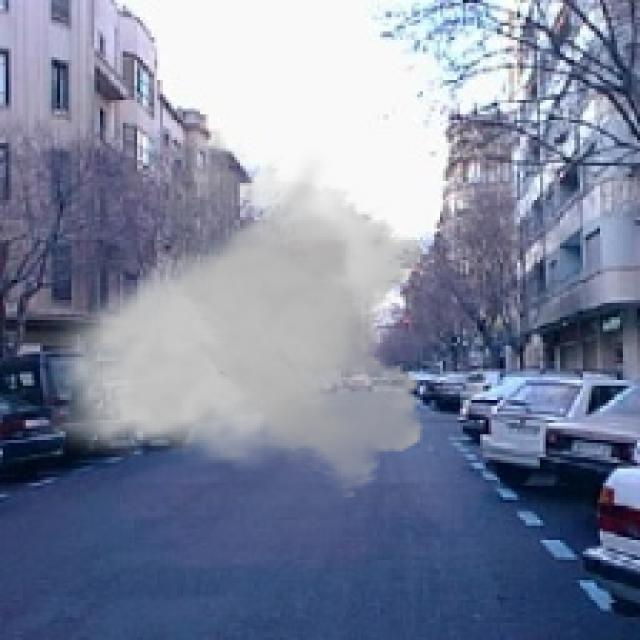smoke: (37, 120, 434, 500)
